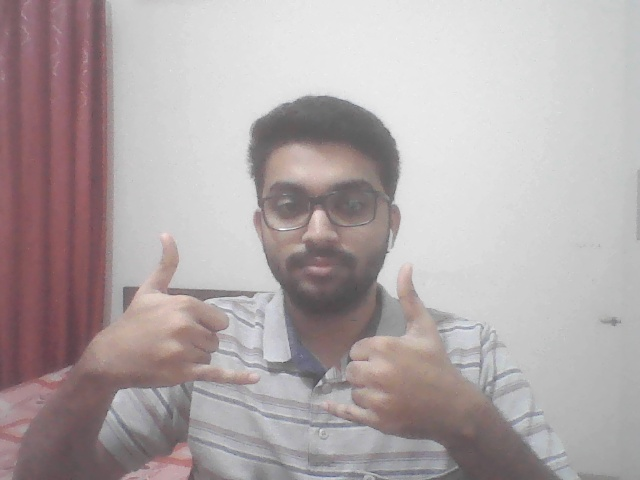play: (81, 218, 479, 455)
